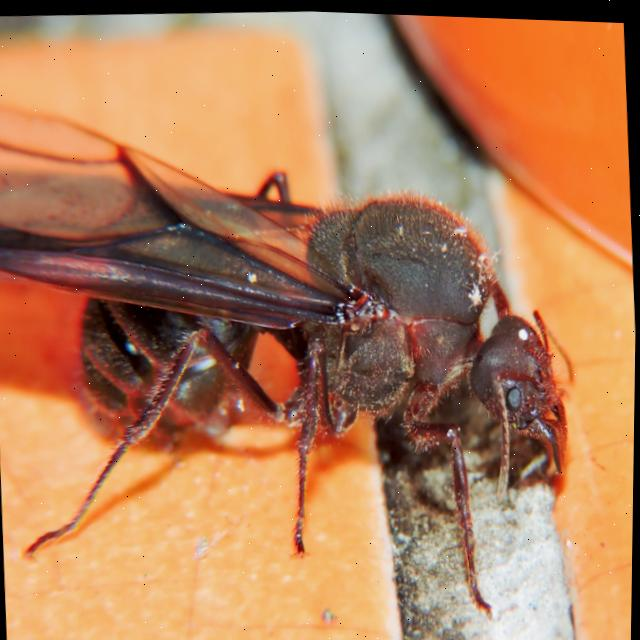Alive-Female-Alate: (0, 71, 593, 639)
